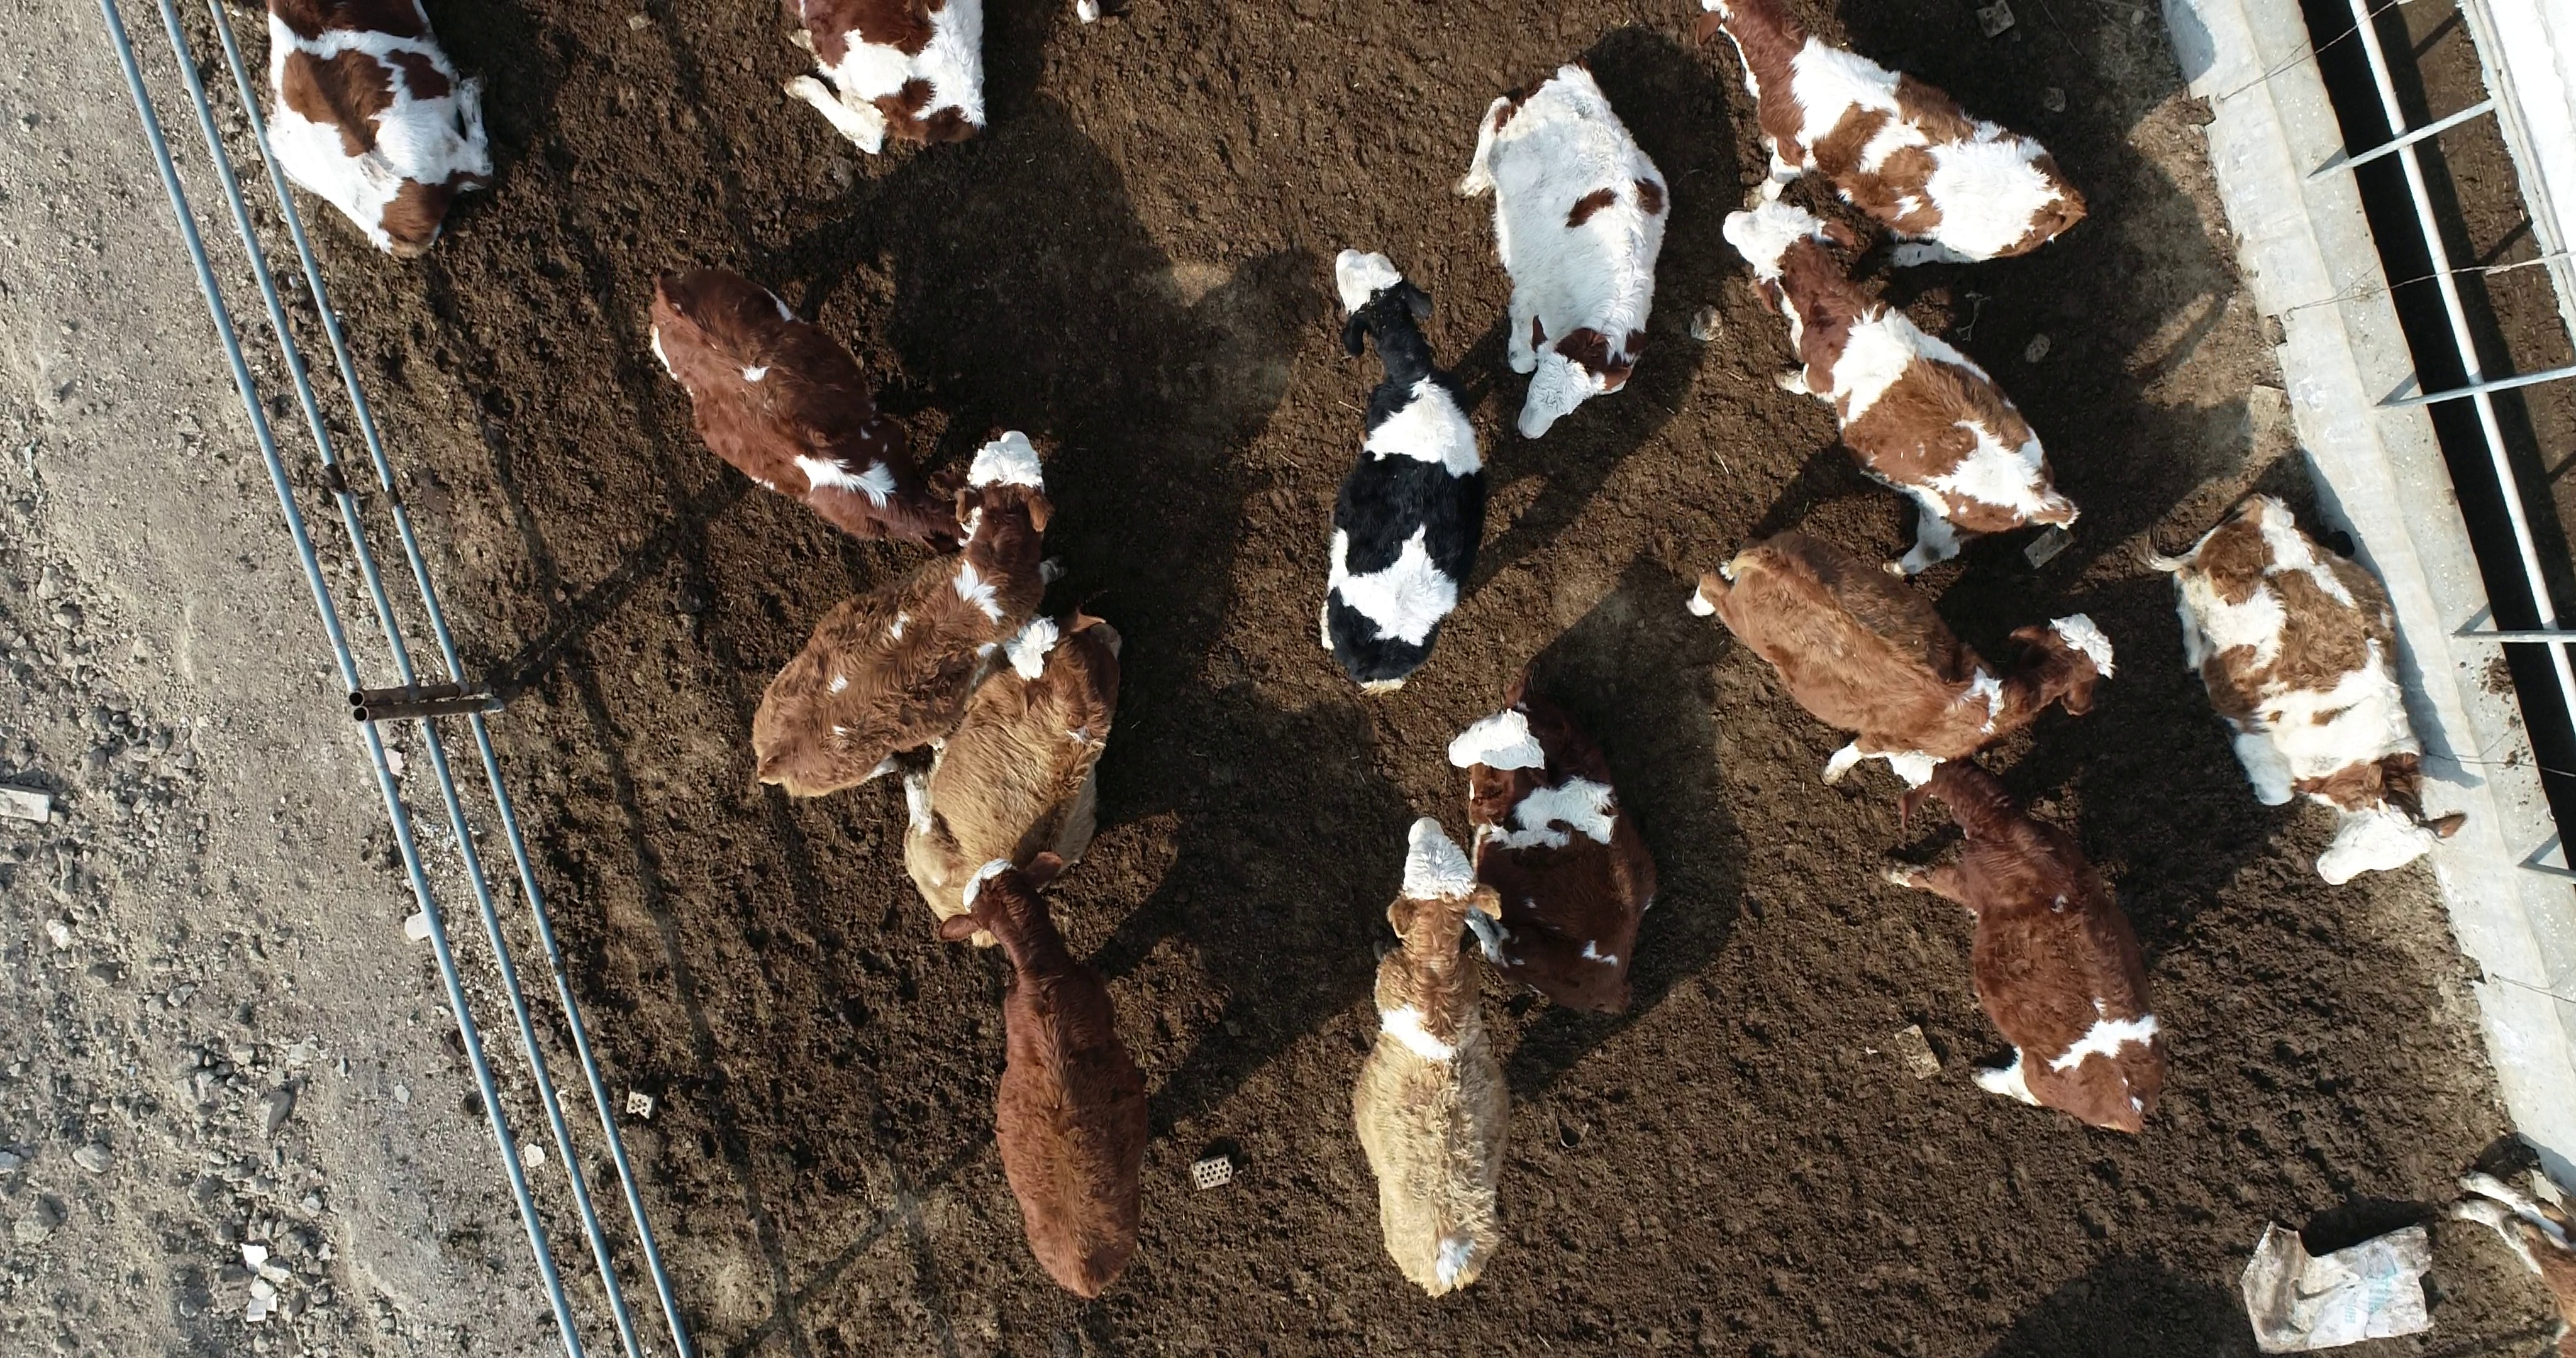cattle: (1717, 194, 2090, 578), (2142, 477, 2475, 888), (1864, 738, 2171, 1145), (736, 421, 1061, 803), (1687, 521, 2119, 792), (1693, 2, 2097, 266), (927, 840, 1155, 1303), (635, 261, 964, 562), (1452, 58, 1678, 450), (1343, 809, 1518, 1300), (1308, 240, 1494, 699), (1448, 675, 1666, 1024)
